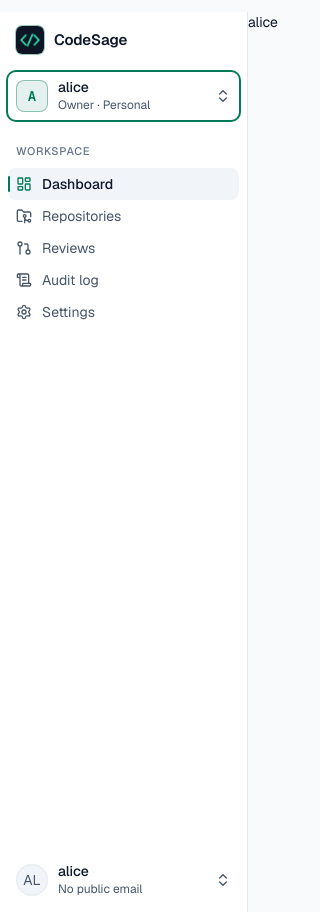
Test: sidebar header and menus › switches organisation from the keyboard alone
Press Enter
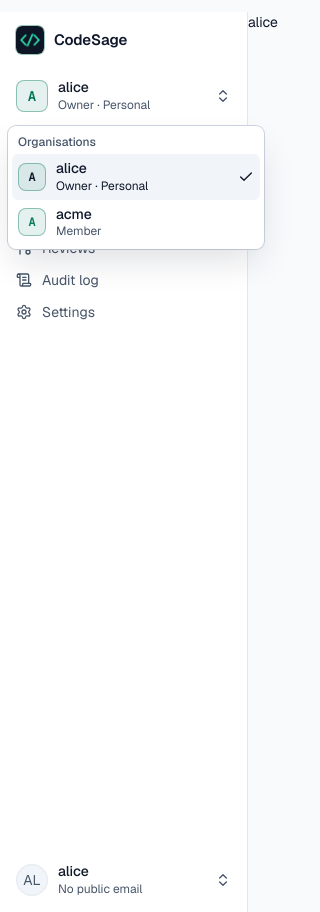
Click the menu item "a acme member" at [60, 222], box x1=18 y1=204 x2=102 y2=239
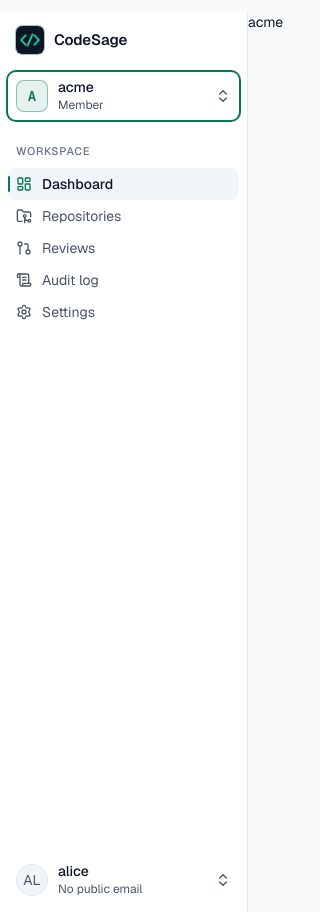
expect the text with test id "current" reads "acme": met, box x1=248 y1=13 x2=283 y2=31
